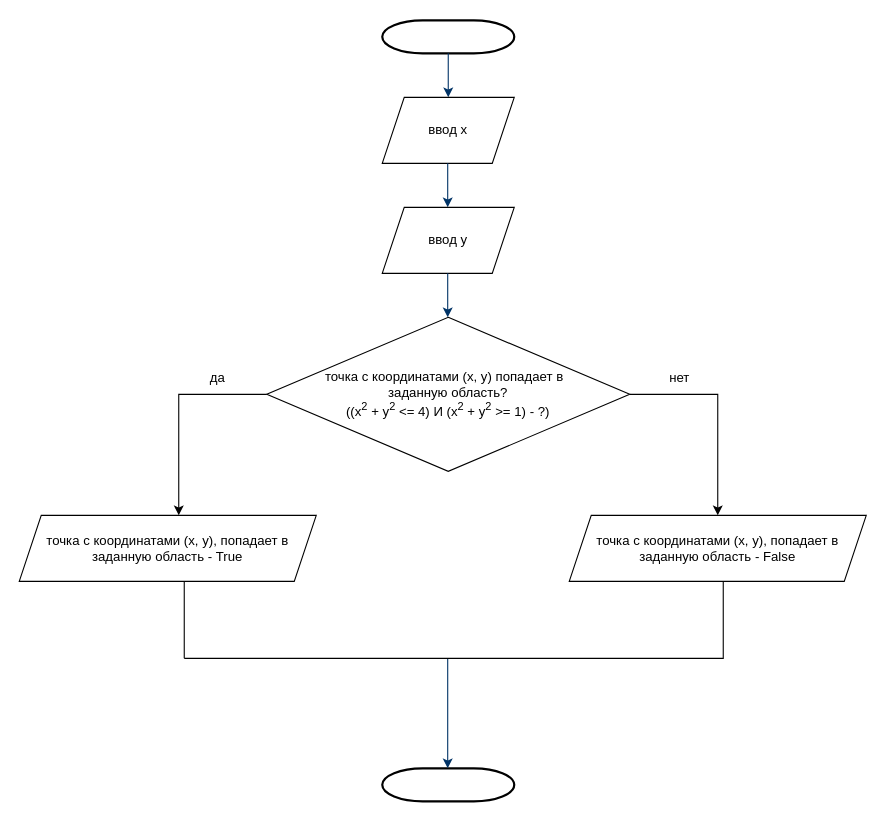
The diagram is 886 pixels wide and 821 high, and some of its shapes have lost their labels. Here are the shapes that lost their labels. From the top down, the centre of each, then its label:
At point (448, 36): "start".
At point (448, 784): "end".
